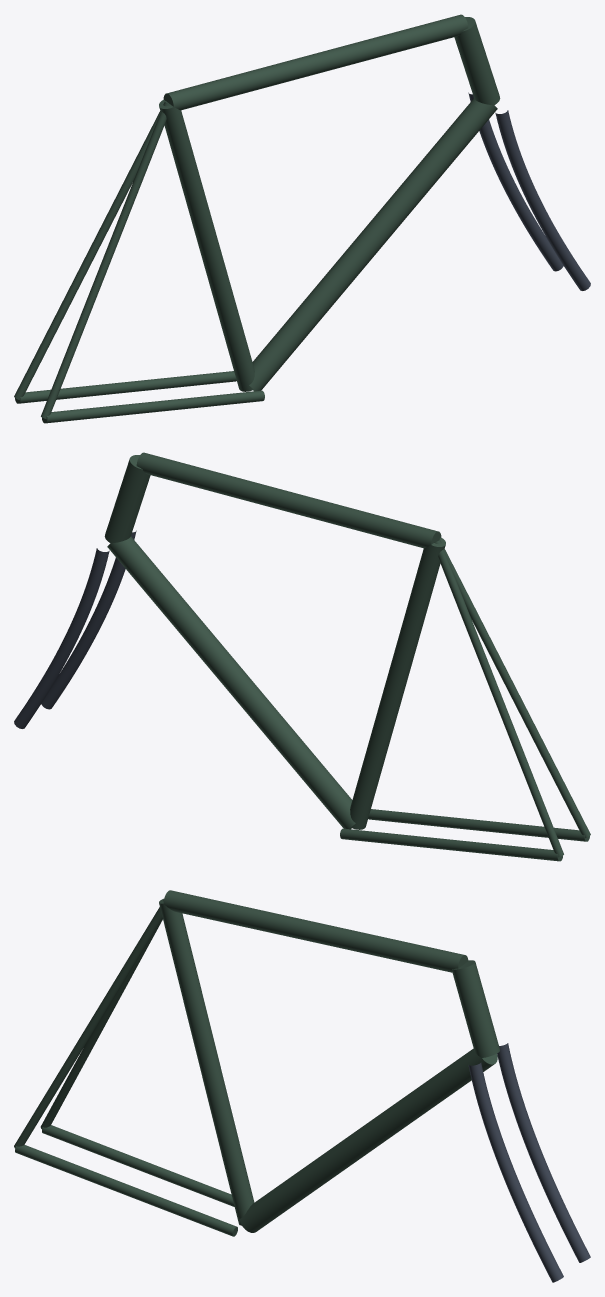
The model's file is skream-ranger-l.glb.
3 views of the same model, one above another, from view 1: azimuth 30°, elevation 25°; view 2: azimuth 150°, elevation 25°; view 3: azimuth 330°, elevation 25° (orthographic).
Parts seen in each view (by area): view 1: paint_down, paint_top, paint_seat, paint_seatstay_0.045, fork_0.045, paint_seatstay_-0.045, paint_chainstay_0.045, paint_chainstay_-0.045, fork_-0.045, paint_head; view 2: paint_down, paint_top, paint_seat, paint_seatstay_-0.045, fork_-0.045, paint_seatstay_0.045, paint_chainstay_-0.045, paint_chainstay_0.045, fork_0.045, paint_head; view 3: paint_down, paint_seat, paint_top, fork_0.045, fork_-0.045, paint_chainstay_0.045, paint_seatstay_0.045, paint_head, paint_chainstay_-0.045, paint_seatstay_-0.045.
Part boxes in pixels (left/top/right/bottom): paint_down: left=249, top=98, right=497, bottom=391; paint_top: left=163, top=14, right=468, bottom=110; paint_seat: left=159, top=99, right=254, bottom=391; paint_seatstay_0.045: left=41, top=102, right=170, bottom=419; fork_0.045: left=495, top=110, right=590, bottom=290; paint_seatstay_-0.045: left=14, top=101, right=167, bottom=399; paint_chainstay_0.045: left=42, top=390, right=264, bottom=423; paint_chainstay_-0.045: left=15, top=371, right=236, bottom=403; fork_-0.045: left=468, top=92, right=563, bottom=271; paint_head: left=454, top=17, right=500, bottom=105; paint_down: left=107, top=536, right=355, bottom=829; paint_top: left=136, top=452, right=441, bottom=548; paint_seat: left=350, top=537, right=445, bottom=829; paint_seatstay_-0.045: left=434, top=540, right=563, bottom=857; fork_-0.045: left=14, top=548, right=109, bottom=728; paint_seatstay_0.045: left=437, top=539, right=590, bottom=837; paint_chainstay_-0.045: left=340, top=828, right=562, bottom=861; paint_chainstay_0.045: left=368, top=809, right=589, bottom=841; fork_0.045: left=41, top=530, right=136, bottom=709; paint_head: left=104, top=455, right=150, bottom=543; paint_down: left=239, top=1048, right=497, bottom=1232; paint_seat: left=159, top=898, right=254, bottom=1225; paint_top: left=163, top=890, right=468, bottom=972; fork_0.045: left=468, top=1062, right=563, bottom=1282; fork_-0.045: left=497, top=1043, right=590, bottom=1262; paint_chainstay_0.045: left=15, top=1145, right=237, bottom=1236; paint_seatstay_0.045: left=14, top=900, right=163, bottom=1148; paint_head: left=452, top=960, right=499, bottom=1057; paint_chainstay_-0.045: left=42, top=1125, right=234, bottom=1206; paint_seatstay_-0.045: left=40, top=918, right=162, bottom=1128.
Size of the model in its own units: 1.06 by 0.6046 by 0.112.
